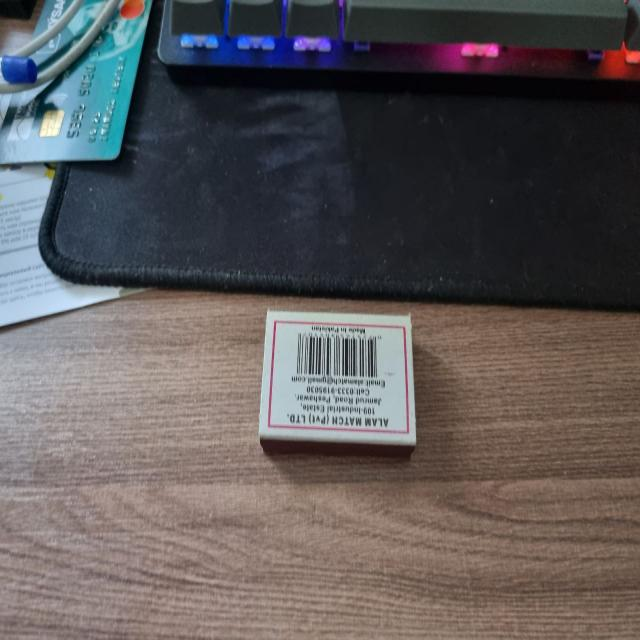match: (258, 308, 420, 464)
